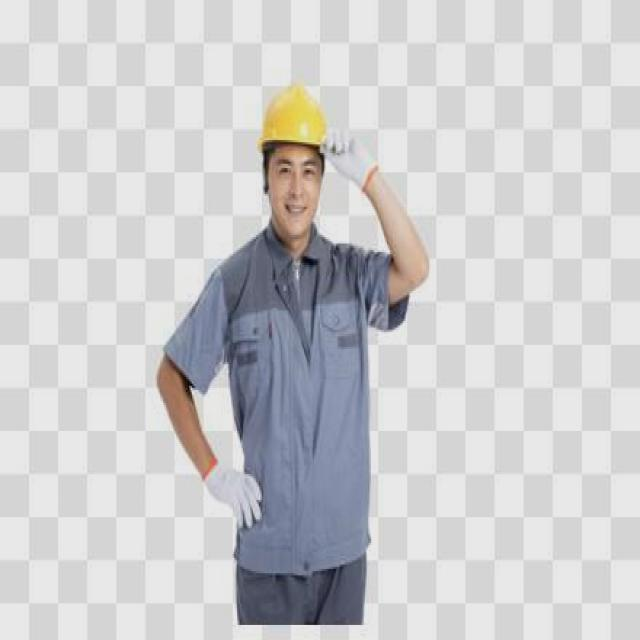face_nomask: (262, 142, 321, 242)
hand_glove: (198, 453, 273, 532), (317, 123, 383, 196)
head_helmet: (253, 71, 336, 155)
person: (176, 48, 413, 639)
